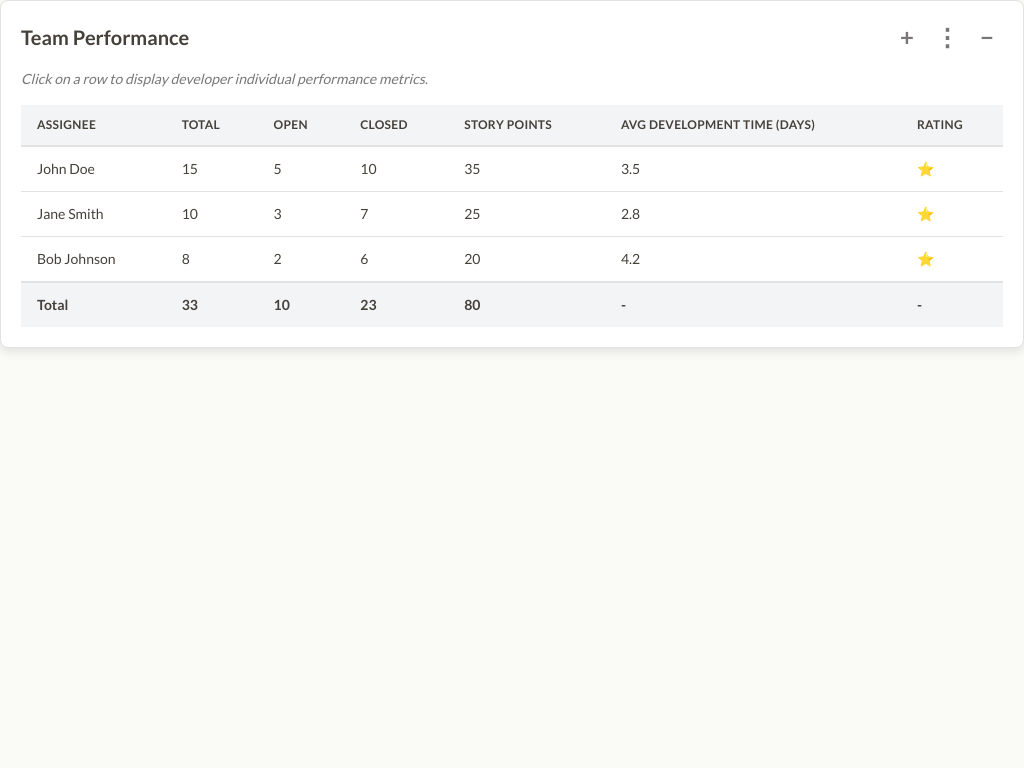
Test case: TeamPerformanceTable › Row Expansion › should expand developer row when clicked
Click the text "John Doe" at (512, 169), box [21, 146, 1003, 192]
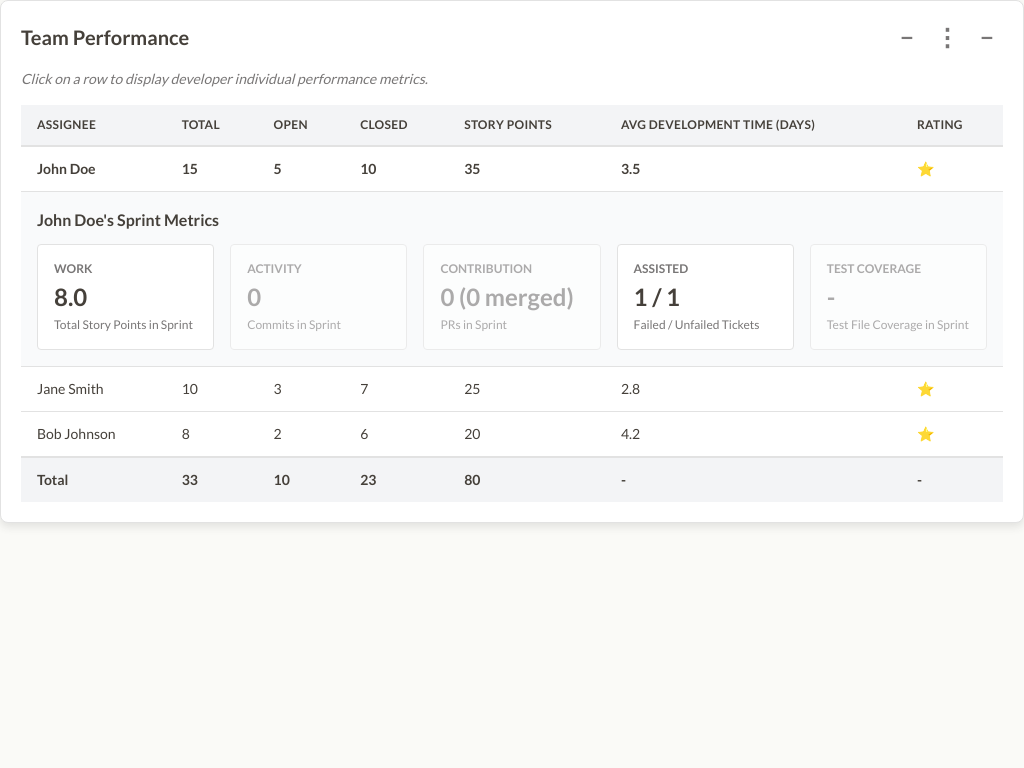
Expected: the heading "John Doe's Sprint Metrics" is shown, [37, 210, 219, 229]
